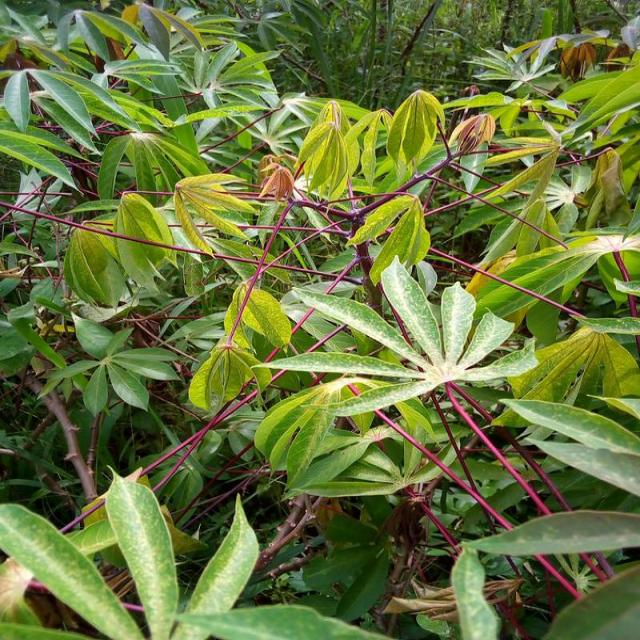cassava leaf: (1, 3, 638, 637), (104, 465, 178, 638)
